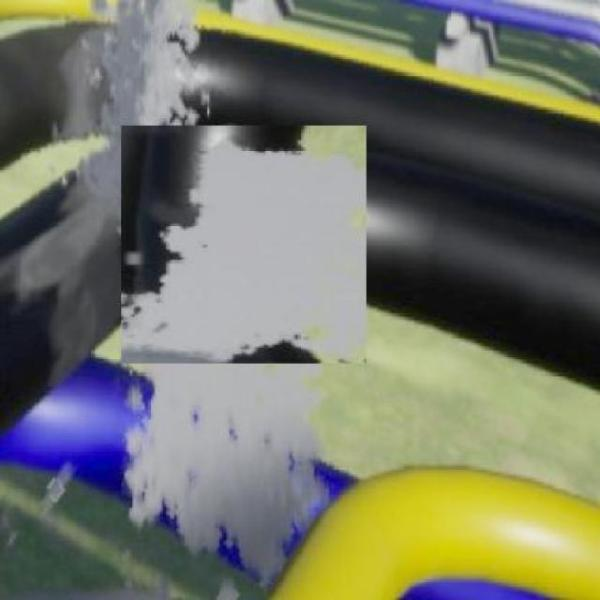gas: (43, 0, 359, 476)
